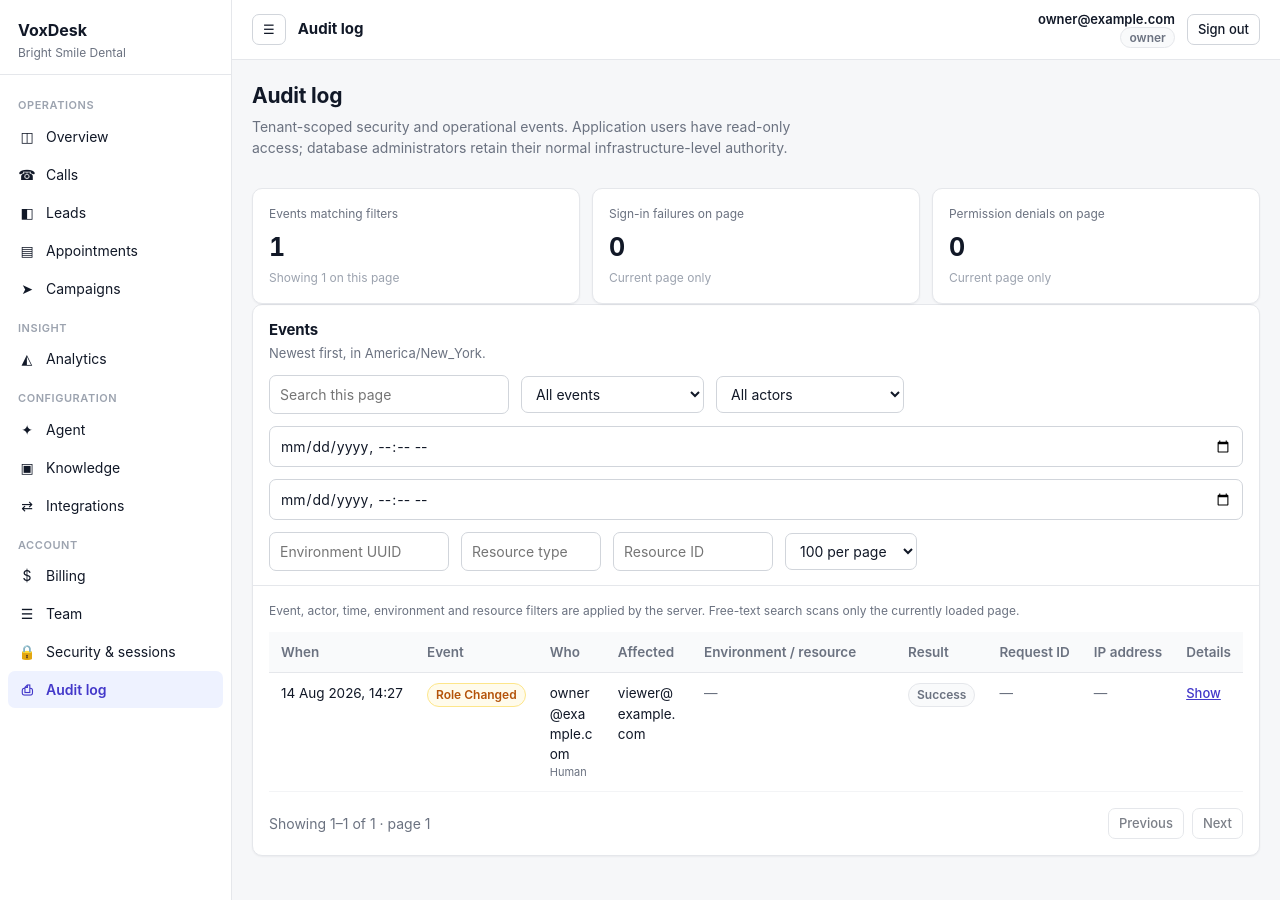
Test: redaction › never paints a leaked secret into the DOM
expect the heading "Audit log" is shown: met, box [252,83,342,108]
expect the text "Role Changed" is shown: met, box [427,683,526,707]
Click the button "Show": (1204, 694) [1186,684,1221,704]
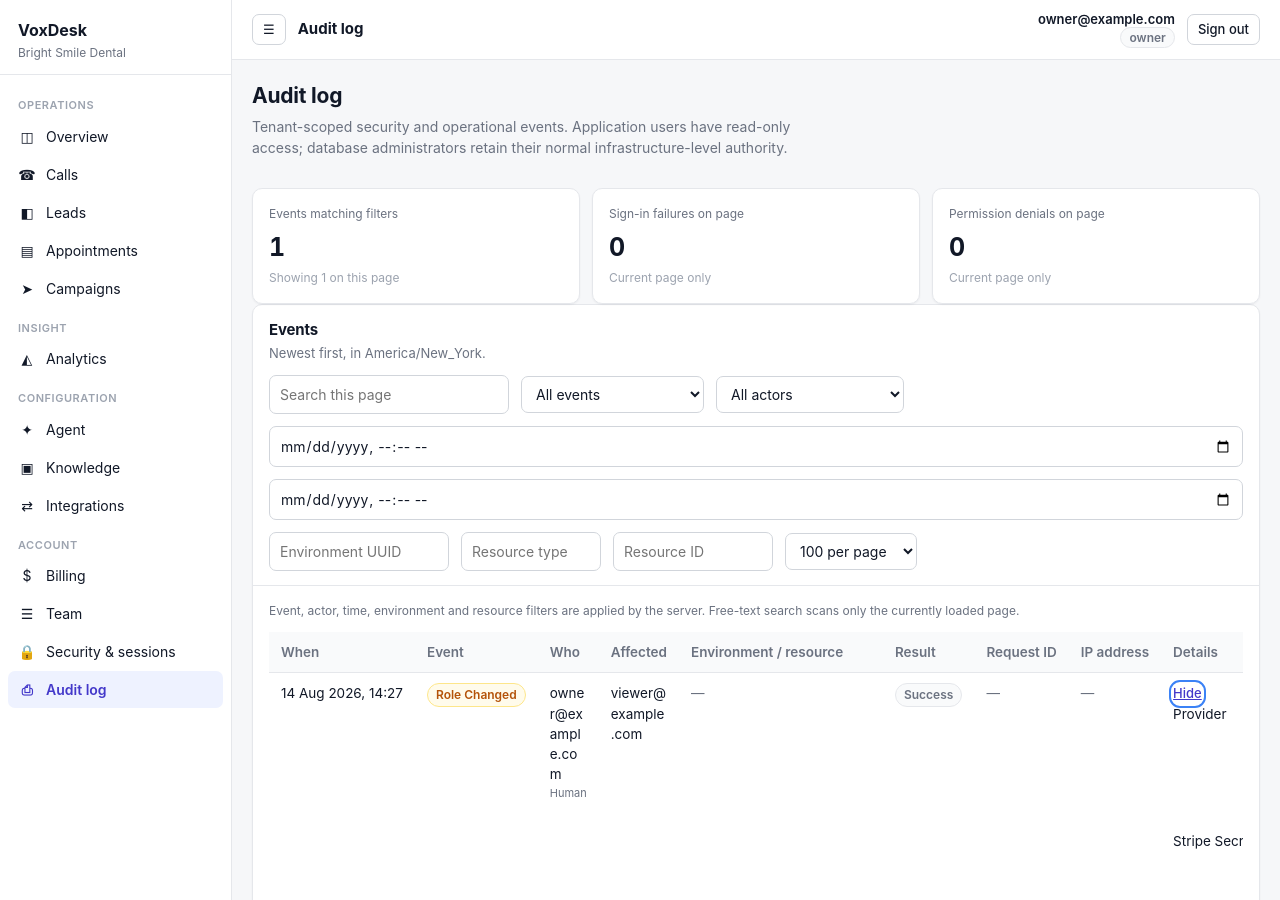
expect the text "Stripe" is shown: met, box [1173,833,1243,849]
